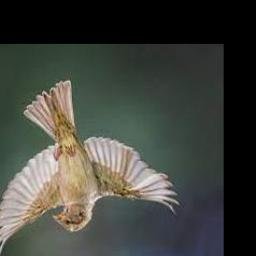Sparrow: (0, 81, 180, 256)
